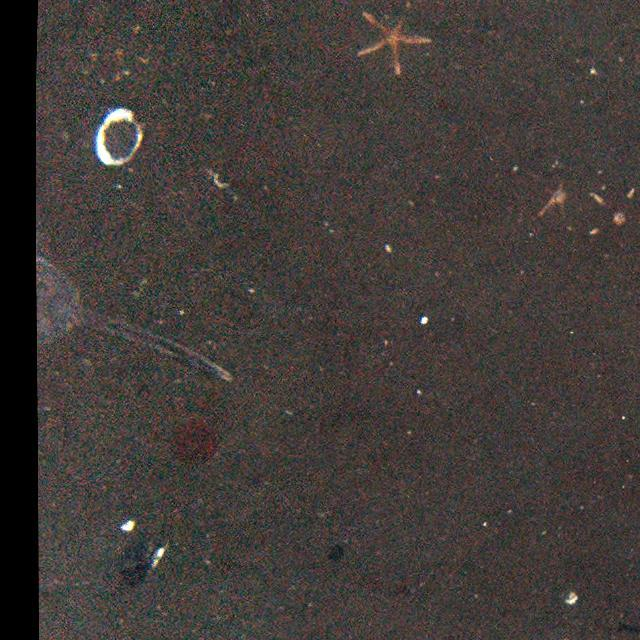skate: (30, 249, 242, 399)
